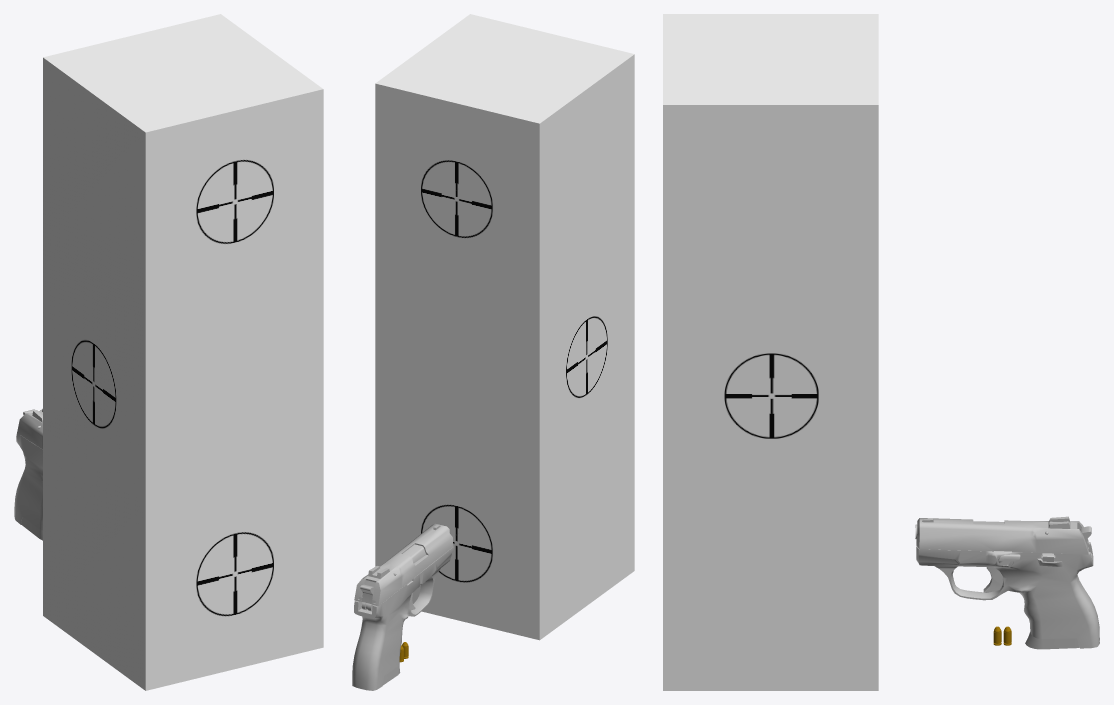
Rendered from Interview-test.fbx.
3 renders of one model, left to right at view 1: azimuth 30°, elevation 25°; view 2: azimuth 150°, elevation 25°; view 3: azimuth 270°, elevation 25°, orthographic. The views are drawn at different scales.
Visible parts, largest first — view 1: Box1, Box3, Box2, Gun1; view 2: Box1, Box2, Box3, Gun1; view 3: Box1, Box3, Box2, Gun1.
Boxes of the visible parts, left/top/right/bottom form: Box1: left=43, top=14, right=323, bottom=318; Box3: left=43, top=430, right=323, bottom=690; Box2: left=43, top=244, right=323, bottom=504; Gun1: left=14, top=408, right=42, bottom=540; Box1: left=375, top=14, right=634, bottom=295; Box2: left=375, top=227, right=634, bottom=467; Box3: left=375, top=399, right=634, bottom=640; Gun1: left=352, top=523, right=453, bottom=690; Box1: left=663, top=14, right=878, bottom=300; Box3: left=663, top=495, right=878, bottom=690; Box2: left=663, top=300, right=878, bottom=495; Gun1: left=915, top=516, right=1099, bottom=649.
Size of the model in its own units: 1 by 3 by 2.03.
